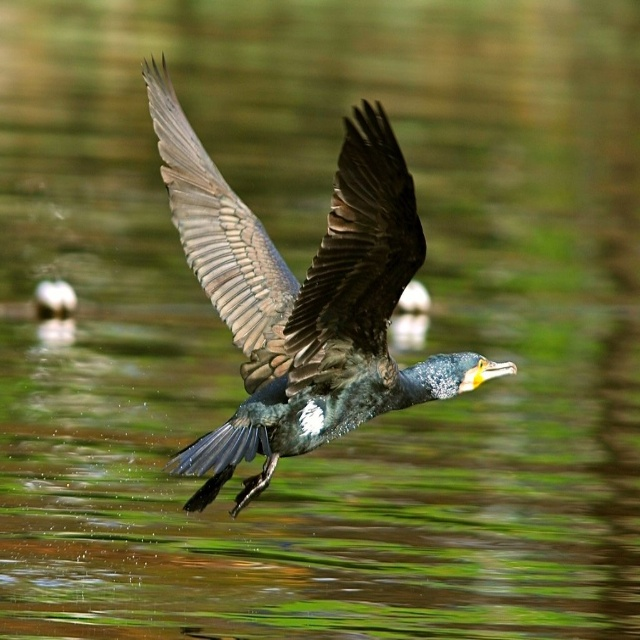Duck: (128, 95, 507, 538)
